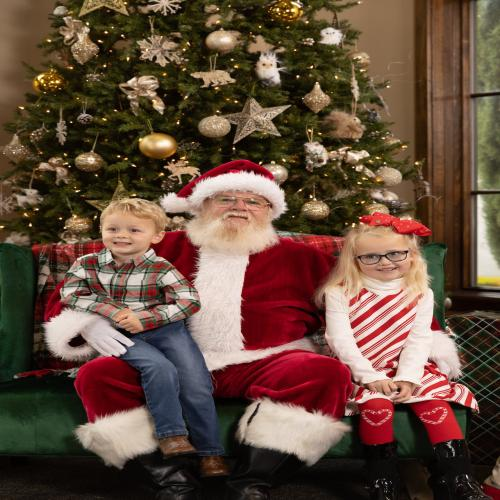Santa: (45, 160, 349, 500)
